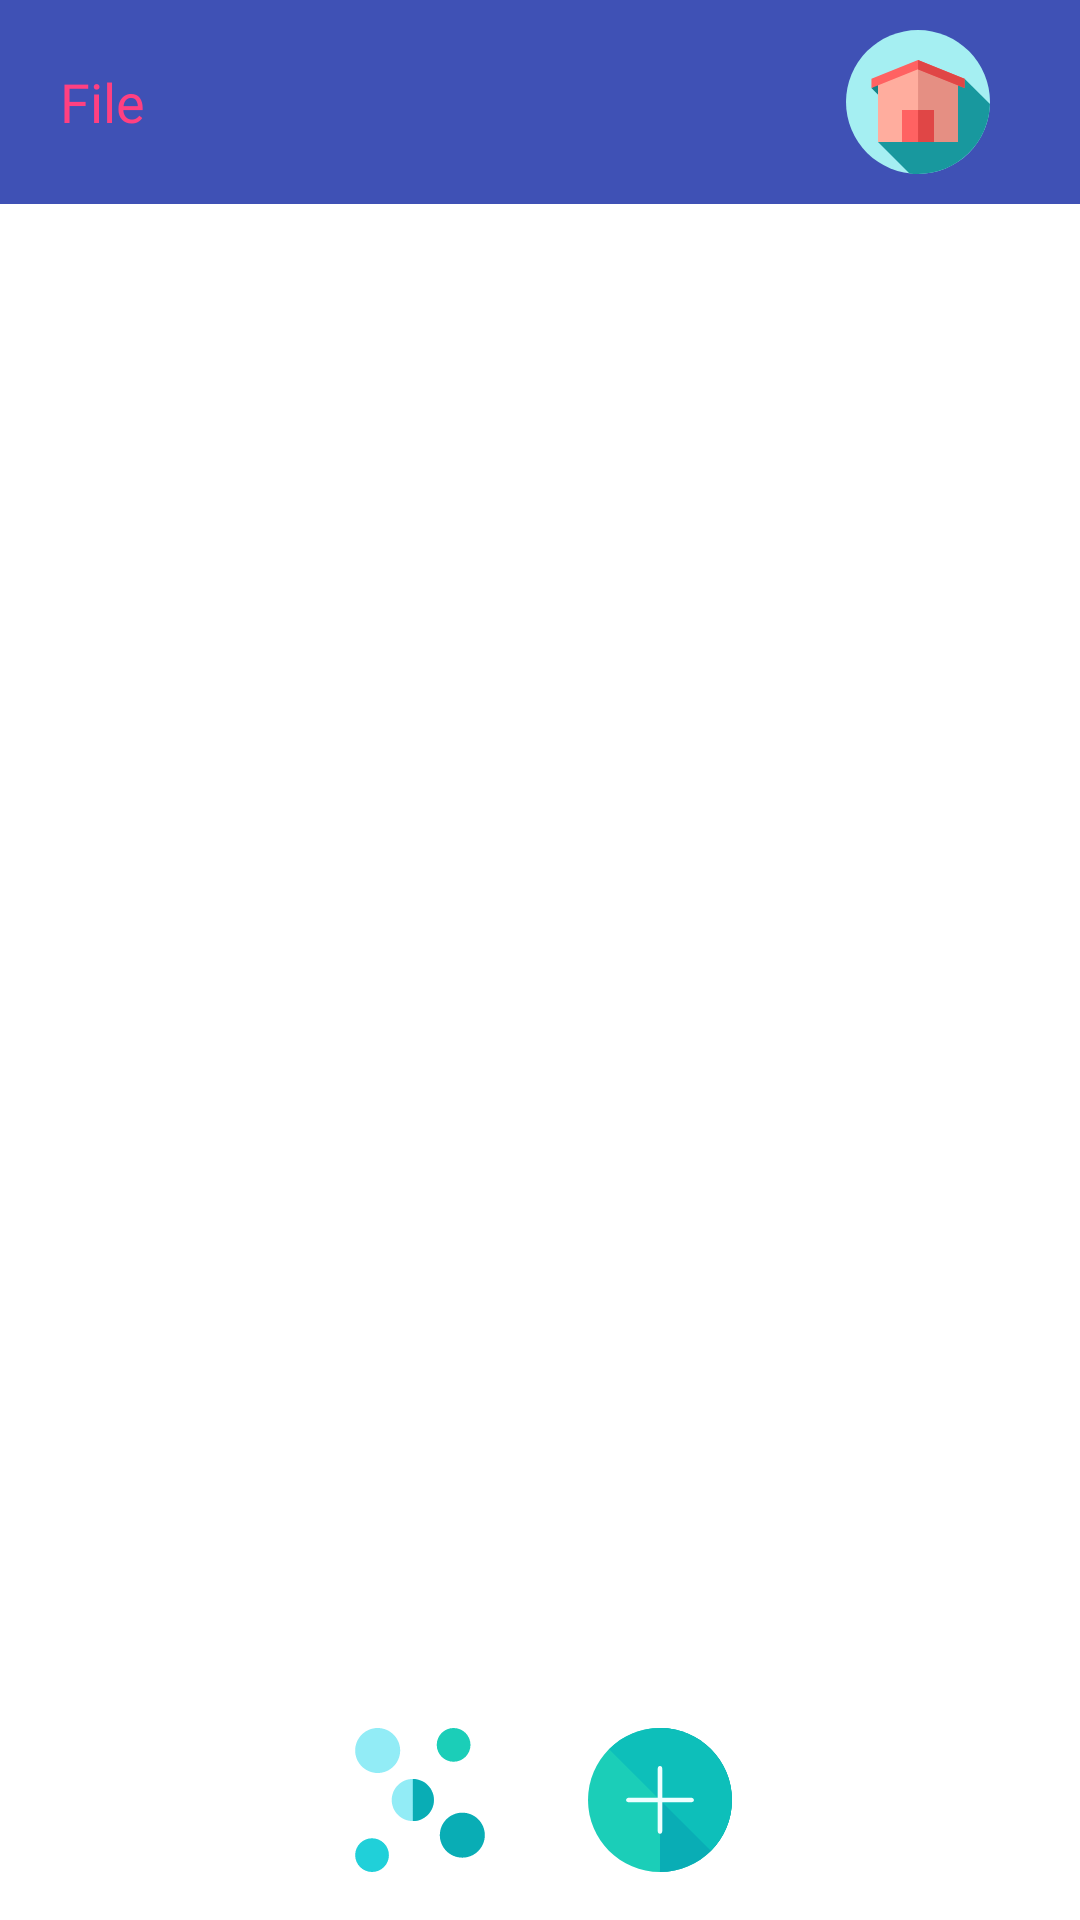

Point at icon controls on the screen. Image size 1080w x 1920h, points as (x,y).
home: (918,102)
plot: (420,1800)
